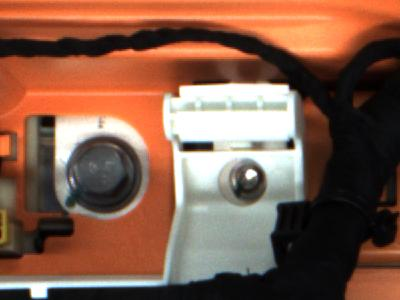nut_b: (61, 137, 146, 219)
